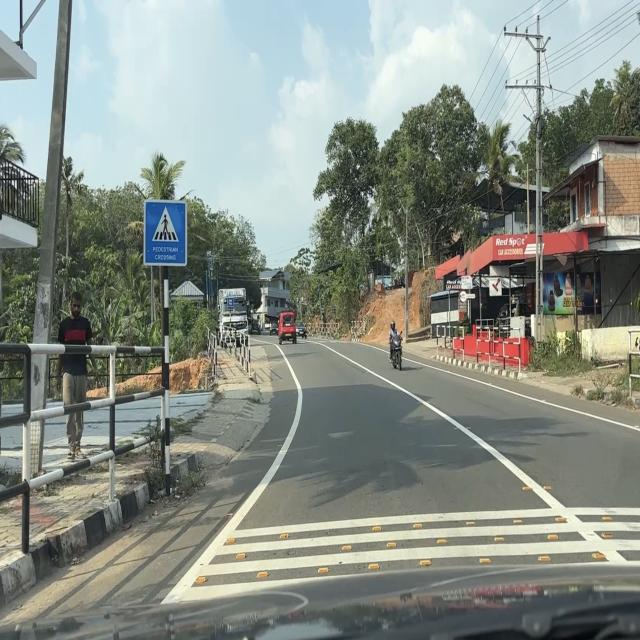PEDESTRIAN_CROSSING: (143, 200, 188, 267)
